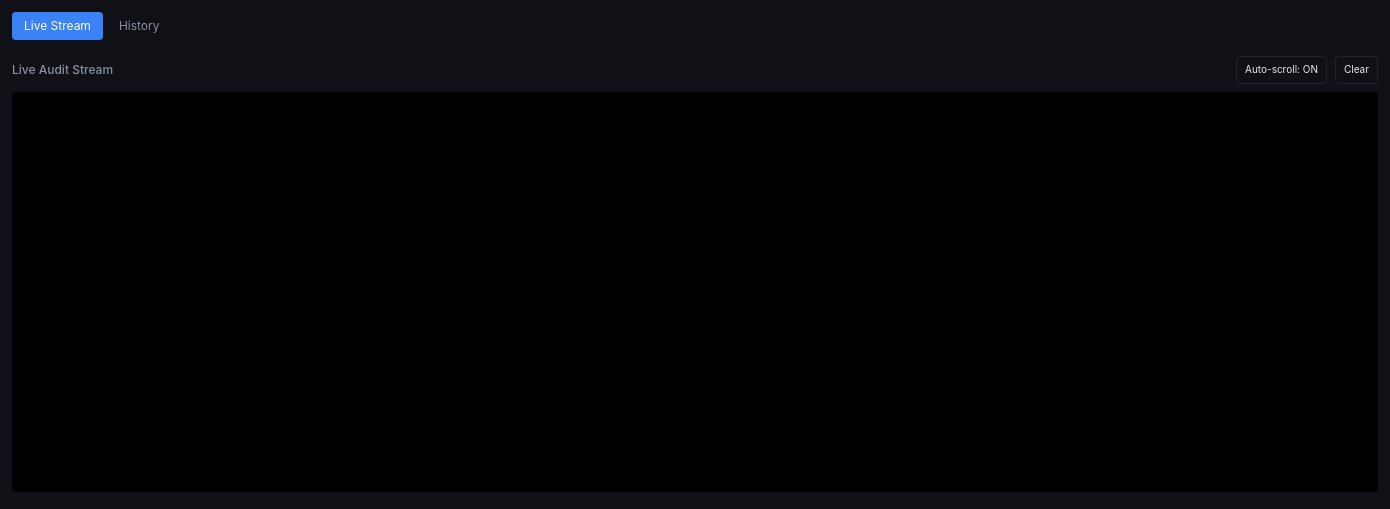
AuditPage (Phase 4) › switches to history tab
The width and height of the screenshot is (1390, 509).
Click the button "History" at point(139, 26), box 107,12 -> 172,40
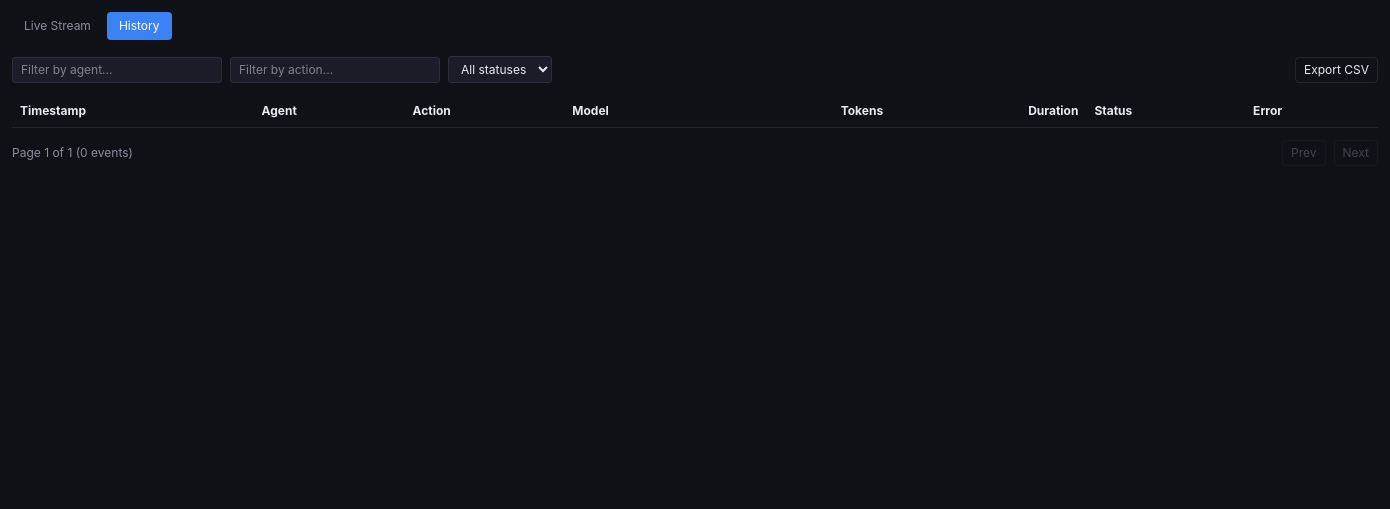
Expected: the column heading "Timestamp" is shown, 12,95 -> 254,128
